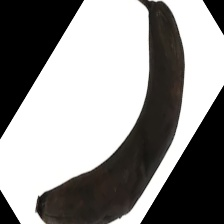banana: (29, 31, 195, 217)
